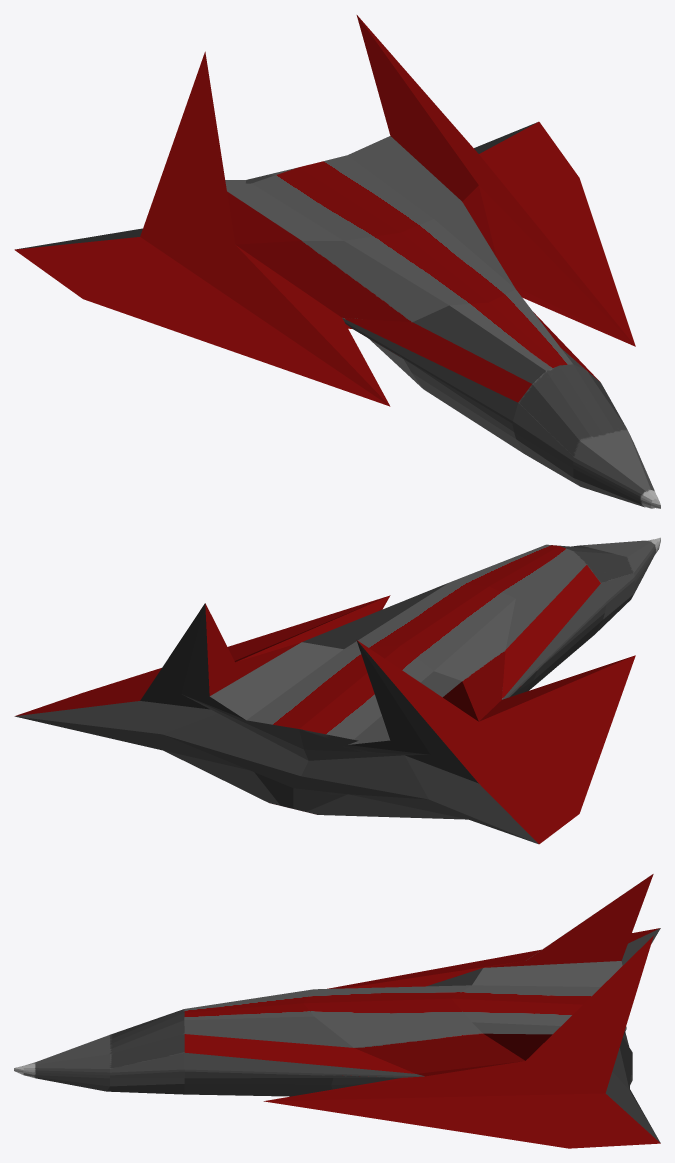
Rendered from enemyFighter.obj.
3 renders of one model, top to bottom at view 1: azimuth 30°, elevation 25°; view 2: azimuth 150°, elevation 25°; view 3: azimuth 270°, elevation 25°, orthographic. The views are drawn at different scales.
Visible parts, largest first — view 1: Cube; view 2: Cube; view 3: Cube.
Part boxes in pixels (bbox=[...]): Cube: bbox=[14, 15, 660, 508]; Cube: bbox=[14, 537, 660, 844]; Cube: bbox=[14, 874, 660, 1148].
Size of the model in its own units: 4.15 by 1.59 by 5.26.
Materials: 1 (1 with a texture image).
